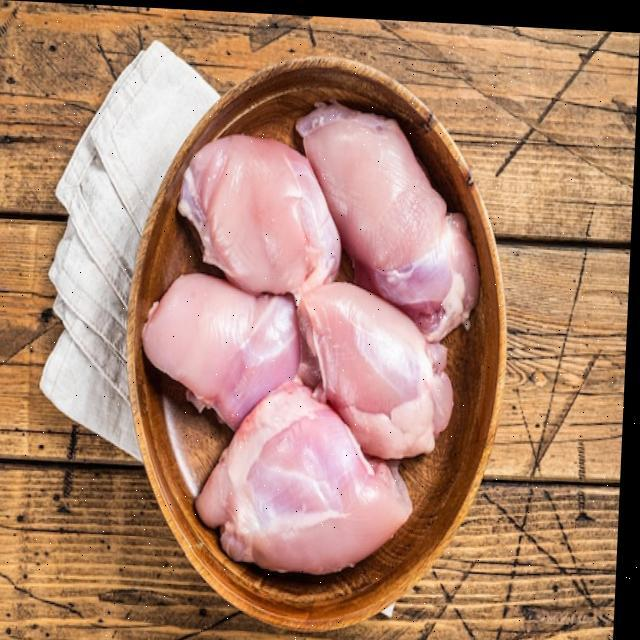thigh: (296, 73, 491, 334), (198, 392, 416, 580), (288, 279, 468, 469), (175, 126, 355, 304), (141, 248, 306, 422)
